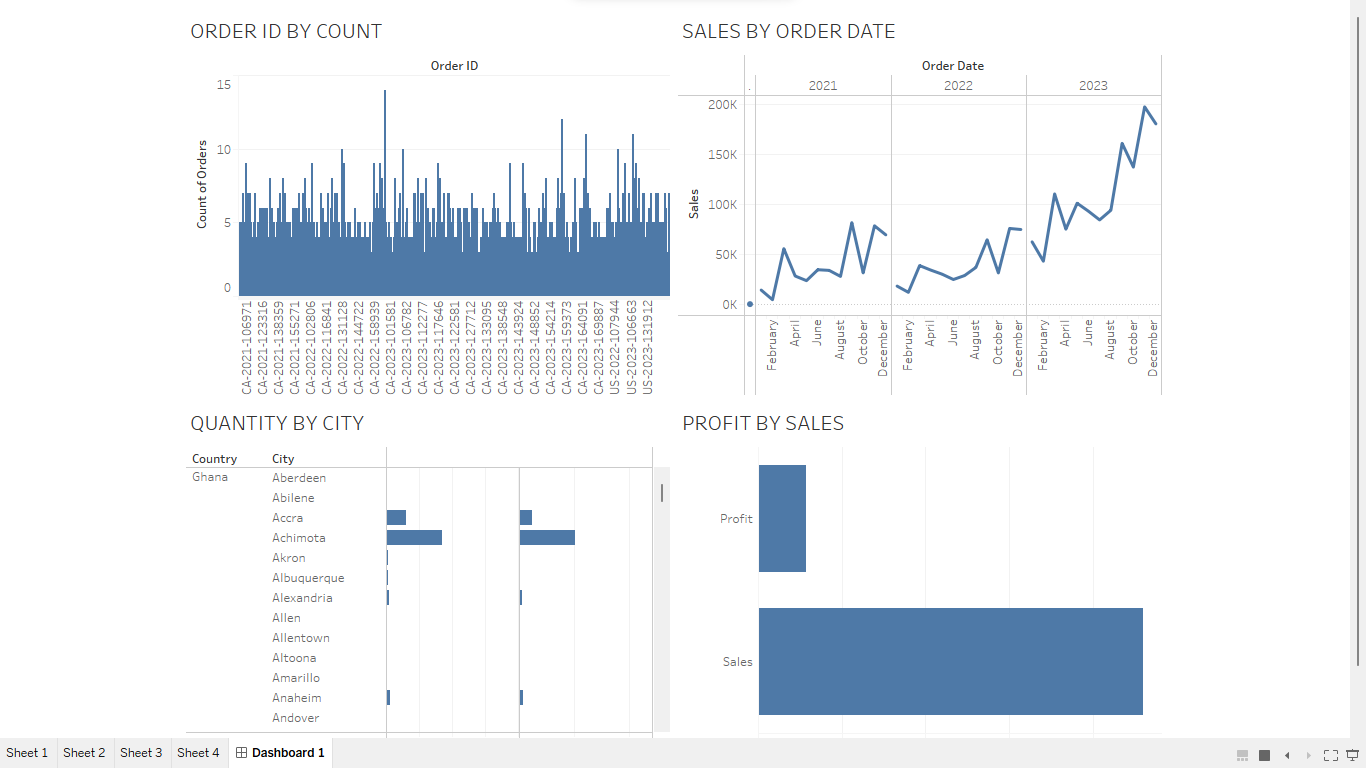

The dashboard page shown, as its layout file describes it:
{"tool":"tableau","page":{"name":"Dashboard 1","canvas":[1000,800],"ordinal":0},"visuals":[{"type":"worksheet","title":"Sheet 3","mark":"Automatic","rows":["Orders_DA658E7DBF454787815DD4BBAE9B6764"],"cols":["Order ID"],"box":[8,8,492,392]},{"type":"worksheet","title":"Sheet 1","mark":"Automatic","rows":["Sales"],"cols":["Order Date","Order Date"],"box":[500,8,492,392]},{"type":"worksheet","title":"Sheet 2","mark":"Automatic","rows":["Country","City"],"cols":["Quantity","Sales"],"box":[8,400,492,392]},{"type":"worksheet","title":"Sheet 4","mark":"Automatic","box":[500,400,492,392]}]}

Visuals, with their boxes on the page's 1000x800 design canvas (x1, y1, x2, y2). These are canvas units, not pixel positions in the 1366x768 screenshot, which may show the page scaled, cropped or inside an application window:
"Sheet 3" worksheet: region(8, 8, 500, 400)
"Sheet 1" worksheet: region(500, 8, 992, 400)
"Sheet 2" worksheet: region(8, 400, 500, 792)
"Sheet 4" worksheet: region(500, 400, 992, 792)
